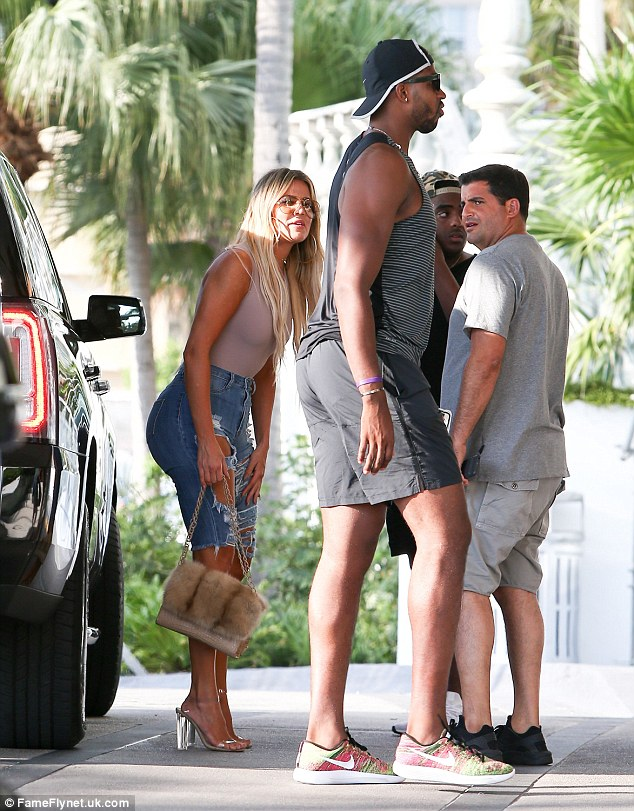Person: (323, 46, 470, 790), (151, 168, 314, 762), (455, 140, 567, 762)
